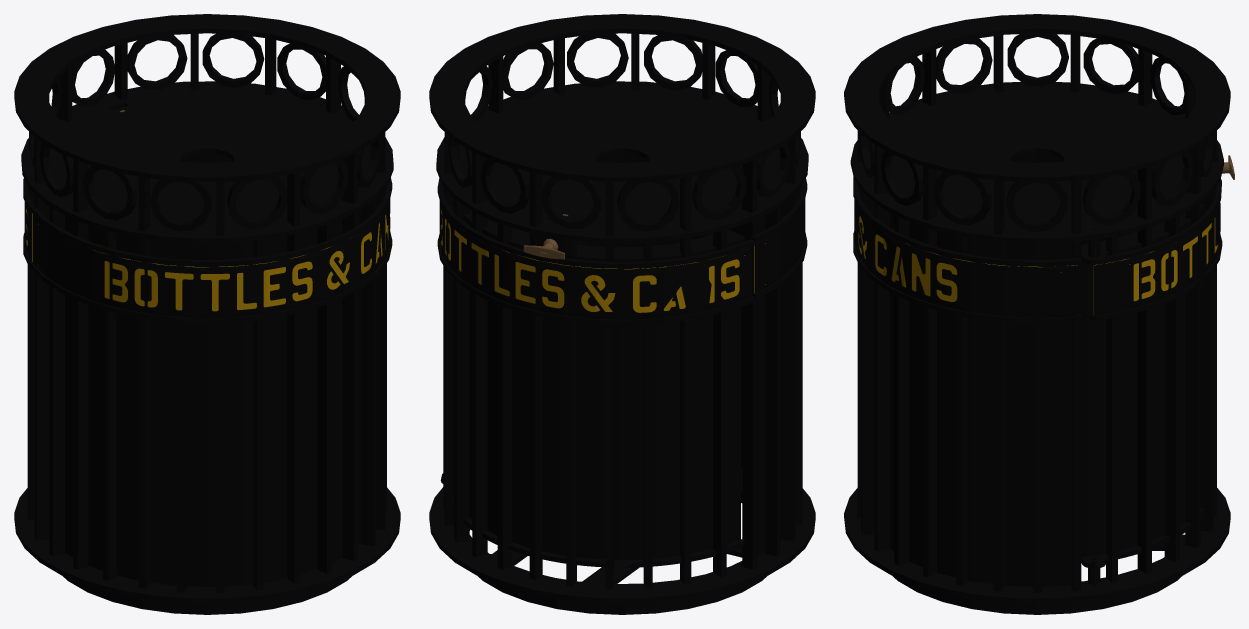
3 renders of one model, left to right at view 1: azimuth 30°, elevation 25°; view 2: azimuth 150°, elevation 25°; view 3: azimuth 270°, elevation 25°, orthographic.
Visible parts, largest first — view 1: mesh219.002_mesh219-geometry, mesh80.002_mesh80-geometry, mesh73.002_mesh73-geometry, mesh182.002_mesh182-geometry, mesh14.002_mesh14-geometry, mesh6.014_mesh6-geometry, mesh6.018_mesh6-geometry, mesh6.010_mesh6-geometry, mesh6.012_mesh6-geometry, mesh223.016_mesh223-geometry, mesh223.014_mesh223-geometry, mesh145.002_mesh145-geometry (+26 smaller); view 2: mesh221.002_mesh221-geometry, mesh80.002_mesh80-geometry, mesh73.002_mesh73-geometry, mesh148.002_mesh148-geometry, mesh14.002_mesh14-geometry, mesh6.010_mesh6-geometry, mesh6.014_mesh6-geometry, mesh223.014_mesh223-geometry, mesh129.022_mesh129-geometry, mesh129.021_mesh129-geometry, mesh129.020_mesh129-geometry, mesh143.002_mesh143-geometry (+35 smaller); view 3: mesh219.002_mesh219-geometry, mesh80.002_mesh80-geometry, mesh73.002_mesh73-geometry, mesh221.002_mesh221-geometry, mesh182.002_mesh182-geometry, mesh14.002_mesh14-geometry, mesh148.002_mesh148-geometry, mesh6.018_mesh6-geometry, mesh6.011_mesh6-geometry, mesh223.012_mesh223-geometry, mesh129.020_mesh129-geometry, mesh129.021_mesh129-geometry (+34 smaller).
Part boxes in pixels (x1,y1,x2,y2): mesh219.002_mesh219-geometry: (65,209,360,586); mesh80.002_mesh80-geometry: (21,81,393,243); mesh73.002_mesh73-geometry: (14,14,400,181); mesh182.002_mesh182-geometry: (32,199,390,317); mesh14.002_mesh14-geometry: (14,487,400,602); mesh6.014_mesh6-geometry: (73,159,88,569); mesh6.018_mesh6-geometry: (342,152,357,560); mesh6.010_mesh6-geometry: (34,137,49,540); mesh6.012_mesh6-geometry: (287,172,300,583); mesh223.016_mesh223-geometry: (317,223,332,573); mesh223.014_mesh223-geometry: (49,206,64,556); mesh145.002_mesh145-geometry: (93,214,388,311); mesh221.002_mesh221-geometry: (469,225,740,559); mesh80.002_mesh80-geometry: (436,81,808,243); mesh73.002_mesh73-geometry: (429,14,815,181); mesh148.002_mesh148-geometry: (439,201,751,319); mesh14.002_mesh14-geometry: (429,469,815,602); mesh6.010_mesh6-geometry: (742,159,757,569); mesh6.014_mesh6-geometry: (780,136,795,540); mesh223.014_mesh223-geometry: (765,206,780,556); mesh129.022_mesh129-geometry: (497,223,512,569); mesh129.021_mesh129-geometry: (472,211,487,557); mesh129.020_mesh129-geometry: (454,198,469,542); mesh143.002_mesh143-geometry: (441,210,744,312); mesh219.002_mesh219-geometry: (889,153,1071,586); mesh80.002_mesh80-geometry: (850,81,1223,243); mesh73.002_mesh73-geometry: (844,14,1230,181); mesh221.002_mesh221-geometry: (1081,229,1185,556); mesh182.002_mesh182-geometry: (854,199,1077,317); mesh14.002_mesh14-geometry: (844,488,1230,602); mesh148.002_mesh148-geometry: (1094,202,1220,315); mesh6.018_mesh6-geometry: (874,144,889,551); mesh6.011_mesh6-geometry: (923,166,936,577); mesh223.012_mesh223-geometry: (894,215,909,565); mesh129.020_mesh129-geometry: (1164,215,1179,561); mesh129.021_mesh129-geometry: (1185,202,1200,547).
Size of the model in its own units: 0.521 by 0.6713 by 0.5272.
